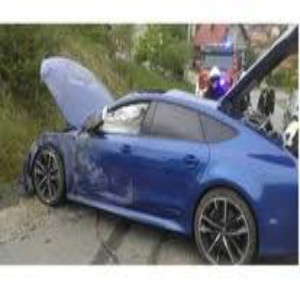door_scratch: (74, 149, 155, 205)
